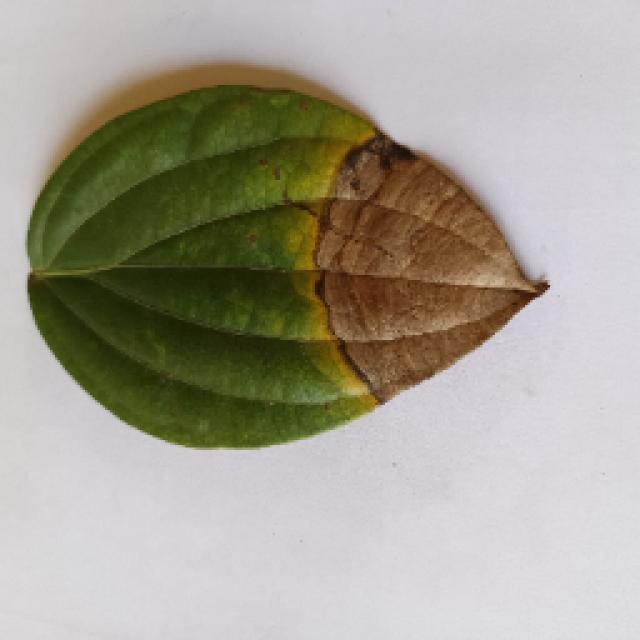footrot: (8, 62, 578, 480)
